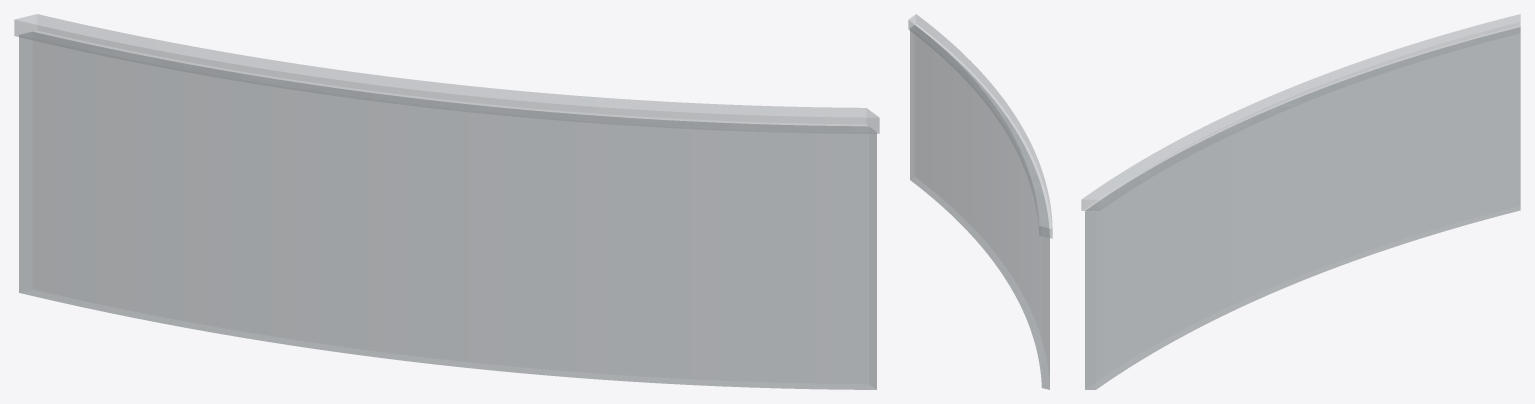
The model's file is rink_glass_corner_iihf_middle_4x4.glb.
The picture shows the model from 3 angles, left to right: view 1: azimuth 30°, elevation 25°; view 2: azimuth 150°, elevation 25°; view 3: azimuth 270°, elevation 25°; orthographic projection. The views are drawn at different scales.
Visible parts, largest first — view 1: rink_glass_corner_iihf_middle_4x4; view 2: rink_glass_corner_iihf_middle_4x4; view 3: rink_glass_corner_iihf_middle_4x4.
Part boxes in pixels (left/top/right/bottom): rink_glass_corner_iihf_middle_4x4: left=14, top=14, right=879, bottom=389; rink_glass_corner_iihf_middle_4x4: left=908, top=14, right=1052, bottom=389; rink_glass_corner_iihf_middle_4x4: left=1081, top=14, right=1520, bottom=389.
Size of the model in its own units: 2.78 by 1.33 by 2.78.
1 material, 1 textured.
